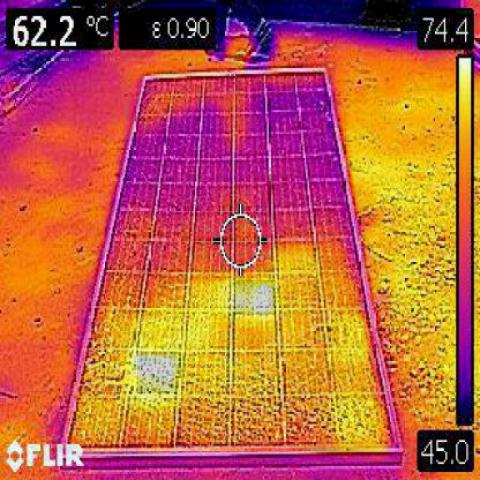fault: (137, 351, 177, 393), (234, 280, 276, 315)
